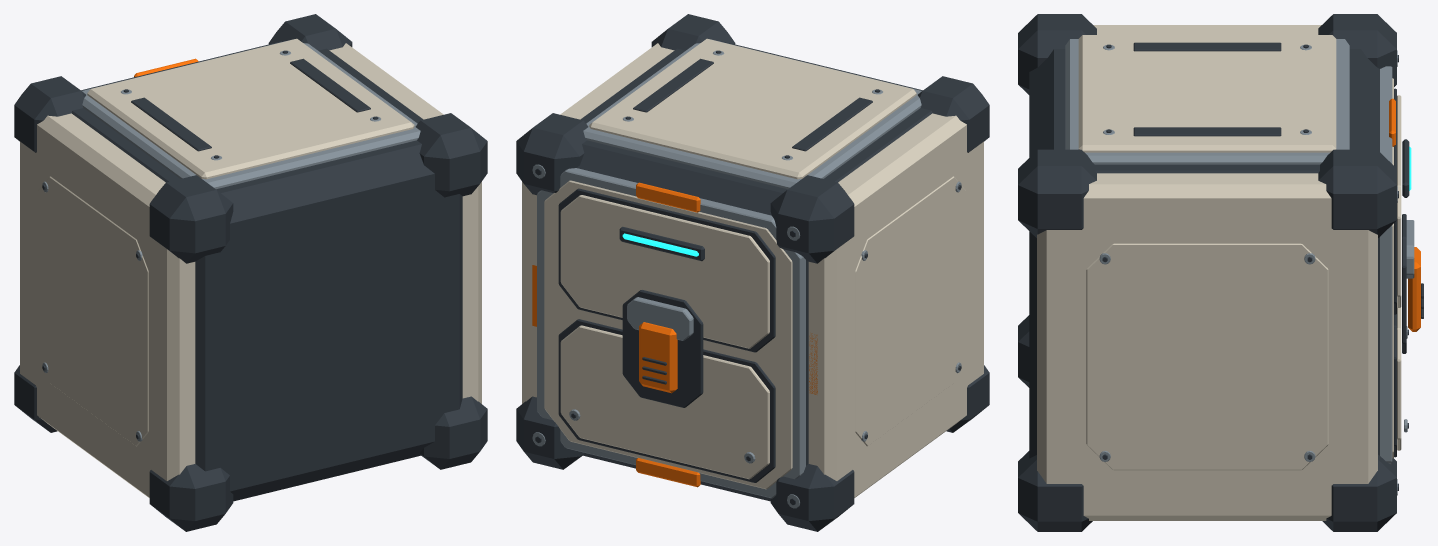
Rendered from VF_Cargo.fbx.
The picture shows the model from 3 angles, left to right: view 1: azimuth 30°, elevation 25°; view 2: azimuth 150°, elevation 25°; view 3: azimuth 270°, elevation 25°; orthographic projection. The views are drawn at different scales.
Visible parts, largest first — view 1: VF_Cargo_Graphite, VF_Cargo_Ivory, VF_Cargo_Steel; view 2: VF_Cargo_Ivory, VF_Cargo_Graphite, VF_Cargo_Steel, VF_Cargo_Orange; view 3: VF_Cargo_Ivory, VF_Cargo_Graphite, VF_Cargo_Steel, VF_Cargo_Orange.
Part boxes in pixels (x1,y1,x2,y2): VF_Cargo_Graphite: (14, 14, 487, 531); VF_Cargo_Ivory: (20, 38, 481, 497); VF_Cargo_Steel: (42, 39, 420, 441); VF_Cargo_Ivory: (522, 38, 983, 497); VF_Cargo_Graphite: (516, 14, 989, 531); VF_Cargo_Steel: (532, 39, 961, 508); VF_Cargo_Orange: (532, 182, 817, 487); VF_Cargo_Ivory: (1037, 25, 1401, 520); VF_Cargo_Graphite: (1018, 14, 1423, 531); VF_Cargo_Steel: (1065, 39, 1414, 495); VF_Cargo_Orange: (1389, 98, 1420, 331).
Size of the model in its own units: 1 by 1 by 1.
